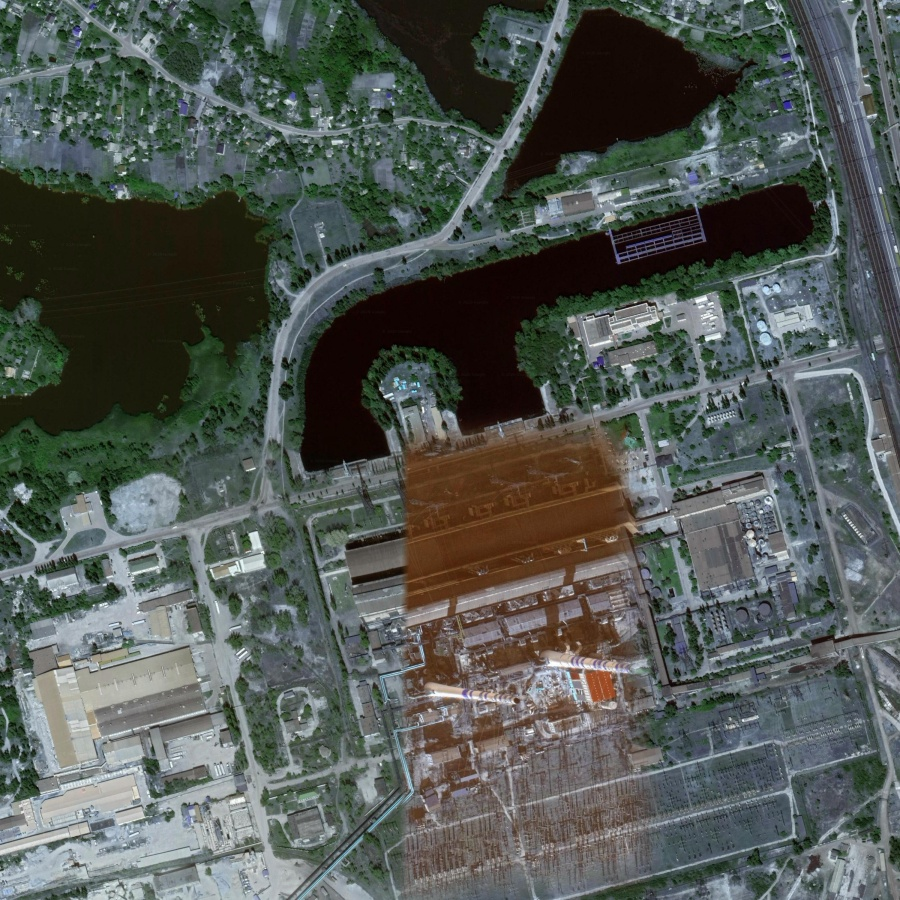PowerPlant: (369, 523, 709, 792)
